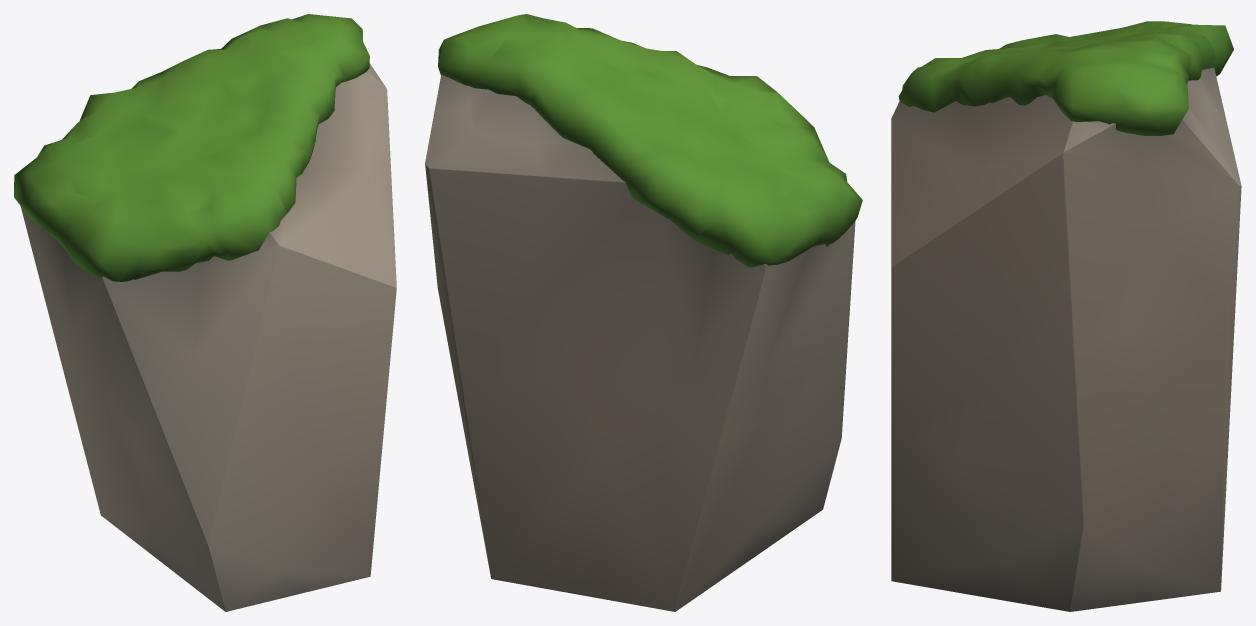
The model's file is glade_pebble_boulder_c.glb.
The picture shows the model from 3 angles, left to right: view 1: azimuth 30°, elevation 25°; view 2: azimuth 150°, elevation 25°; view 3: azimuth 270°, elevation 25°; orthographic projection. The views are drawn at different scales.
Parts seen in each view (by area): view 1: glade_pebble_boulder_c, moss; view 2: glade_pebble_boulder_c, moss; view 3: glade_pebble_boulder_c, moss.
Boxes of the visible parts, box(x1,y1,x2,y2) form: glade_pebble_boulder_c: box(20, 63, 396, 611); moss: box(14, 14, 369, 281); glade_pebble_boulder_c: box(425, 74, 855, 611); moss: box(438, 14, 862, 267); glade_pebble_boulder_c: box(891, 67, 1241, 611); moss: box(898, 21, 1233, 135).
Bounding box in the file's own units: 5.11 × 6.87 × 4.
